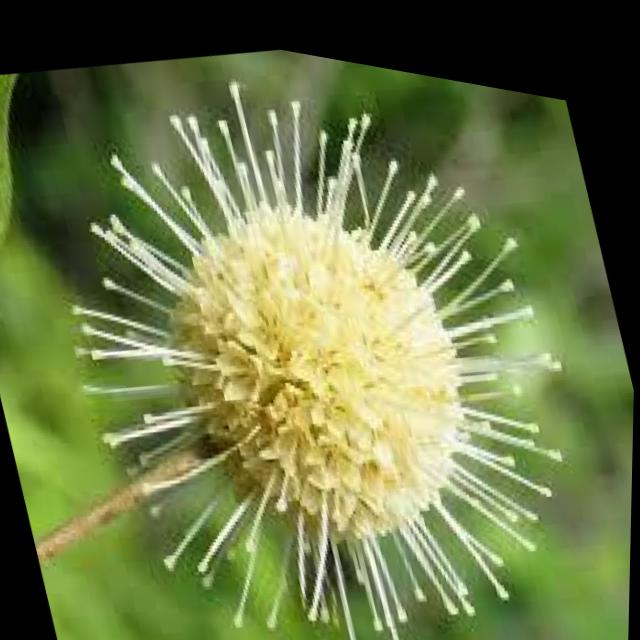Flower: (19, 4, 635, 640)
